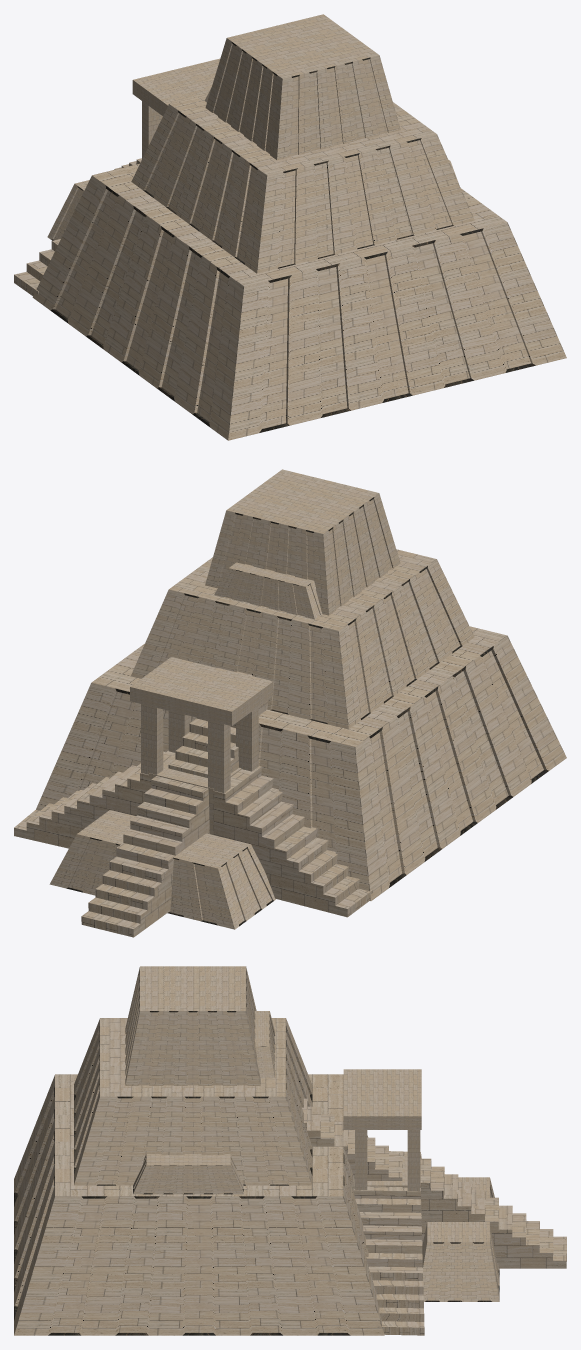
File: Ziggauraut.FBX
3 renders of one model, top to bottom at view 1: azimuth 30°, elevation 25°; view 2: azimuth 150°, elevation 25°; view 3: azimuth 270°, elevation 25°, orthographic. The views are drawn at different scales.
Parts seen in each view (by area): view 1: Ziggaurat_Baser, Ziggaurat_Baser001, Ziggaurat_Baser002, Box006, StraightStair002, Box007, Box005; view 2: Ziggaurat_Baser, Ziggaurat_Baser001, Ziggaurat_Baser002, Box007, StraightStair002, StraightStair003, Box006, StraightStair001, Box009, StraightStair004, Box005, Box003 (+3 smaller); view 3: Ziggaurat_Baser, Ziggaurat_Baser001, Ziggaurat_Baser002, StraightStair001, StraightStair003, Box007, Box006, Box008, StraightStair004, Box009, Box003, Box002.
Boxes of the visible parts, x1,y1,x2,y2 form: Ziggaurat_Baser: (32,163,566,440); Ziggaurat_Baser001: (131,94,474,273); Ziggaurat_Baser002: (205,14,400,160); Box006: (132,58,219,115); StraightStair002: (14,162,140,295); Box007: (47,180,89,240); Box005: (142,101,162,158); Ziggaurat_Baser: (36,626,566,900); Ziggaurat_Baser001: (131,549,474,729); Ziggaurat_Baser002: (205,469,400,615); Box007: (49,810,276,929); StraightStair002: (213,766,373,917); StraightStair003: (81,776,209,937); Box006: (130,657,272,725); StraightStair001: (14,750,175,848); Box009: (214,562,322,619); StraightStair004: (168,668,270,777); Box005: (208,720,230,792); Box003: (141,704,163,774); Ziggaurat_Baser: (14,1074,384,1335); Ziggaurat_Baser001: (74,1018,312,1185); Ziggaurat_Baser002: (125,966,260,1085); StraightStair001: (353,1186,424,1335); StraightStair003: (420,1158,566,1268); Box007: (422,1177,499,1301); Box006: (343,1069,421,1129); Box008: (133,1154,243,1194); StraightStair004: (302,1098,402,1180); Box009: (254,1011,274,1078); Box003: (407,1130,420,1191); Box002: (355,1130,367,1189).
Size of the model in its own units: 347 by 280 by 518.
Materials: 1 (1 with a texture image).
